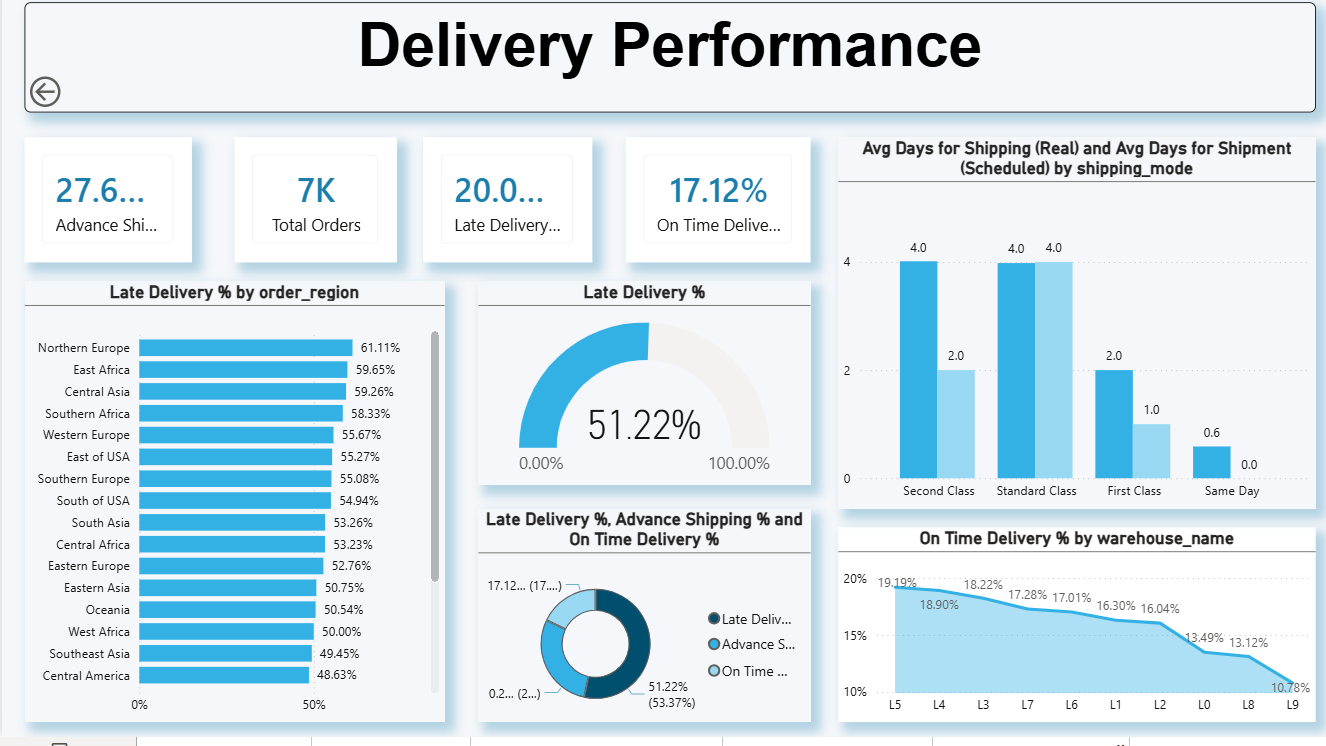

The dashboard page shown, as its layout file describes it:
{"tool":"powerbi","page":{"name":"Delivery Performance","canvas":[1280,720],"ordinal":4},"visuals":[{"type":"cardVisual","fields":{"Data":["fact_table.On Time Delivery %"]},"box":[602,141.2,178.6,120.6],"z":0},{"type":"cardVisual","fields":{"Data":["fact_table.Total Orders"]},"box":[224.4,141.2,156.8,120.6],"z":1000},{"type":"cardVisual","fields":{"Data":["fact_table.Advance Shipping %"]},"box":[21.7,141.2,161.7,120.6],"z":2000},{"type":"cardVisual","fields":{"Data":["fact_table.Late Delivery % Trend"]},"box":[406.6,141.2,162.9,120.6],"z":3000},{"type":"textbox","box":[21.7,10.9,1246.3,106.2],"z":4000},{"type":"gauge","fields":{"Y":["fact_table.Late Delivery %"]},"box":[459.7,279.9,320.9,196.6],"z":5000},{"type":"donutChart","fields":{"Y":["fact_table.Late Delivery %","fact_table.Advance Shipping %","fact_table.On Time Delivery %"]},"box":[459.7,499.5,320.9,206.3],"z":6000},{"type":"areaChart","fields":{"Category":["Dim_Warehouse.warehouse_name"],"Y":["fact_table.On Time Delivery %"]},"box":[807.1,517.6,460.9,188.2],"z":7000},{"type":"barChart","fields":{"Y":["fact_table.Late Delivery %"],"Category":["fact_table.order_region"]},"box":[21.7,279.9,405.4,425.9],"z":8000},{"type":"clusteredColumnChart","fields":{"Y":["fact_table.Avg Days for Shipping (Real)","fact_table.Avg Days for Shipment (Scheduled)"],"Category":["fact_table.shipping_mode"]},"box":[807.1,141.2,460.9,358.3],"z":9000},{"type":"actionButton","box":[21.7,77.2,100,40],"z":10000}]}

Visuals, with their boxes in screenshot pixels (x1, y1, x2, y2), scaled from the page's 1280x720 canvas onto the 1326x746 screenshot:
cardVisual - fact_table.On Time Delivery %: bbox=[624, 146, 809, 271]
cardVisual - fact_table.Total Orders: bbox=[232, 146, 395, 271]
cardVisual - fact_table.Advance Shipping %: bbox=[22, 146, 190, 271]
cardVisual - fact_table.Late Delivery % Trend: bbox=[421, 146, 590, 271]
textbox: bbox=[22, 11, 1314, 121]
gauge - fact_table.Late Delivery %: bbox=[476, 290, 809, 494]
donutChart - fact_table.Late Delivery % x fact_table.Advance Shipping %: bbox=[476, 518, 809, 731]
areaChart - Dim_Warehouse.warehouse_name x fact_table.On Time Delivery %: bbox=[836, 536, 1314, 731]
barChart - fact_table.Late Delivery % x fact_table.order_region: bbox=[22, 290, 442, 731]
clusteredColumnChart - fact_table.Avg Days for Shipping (Real) x fact_table.Avg Days for Shipment (Scheduled): bbox=[836, 146, 1314, 518]
actionButton: bbox=[22, 80, 126, 121]
